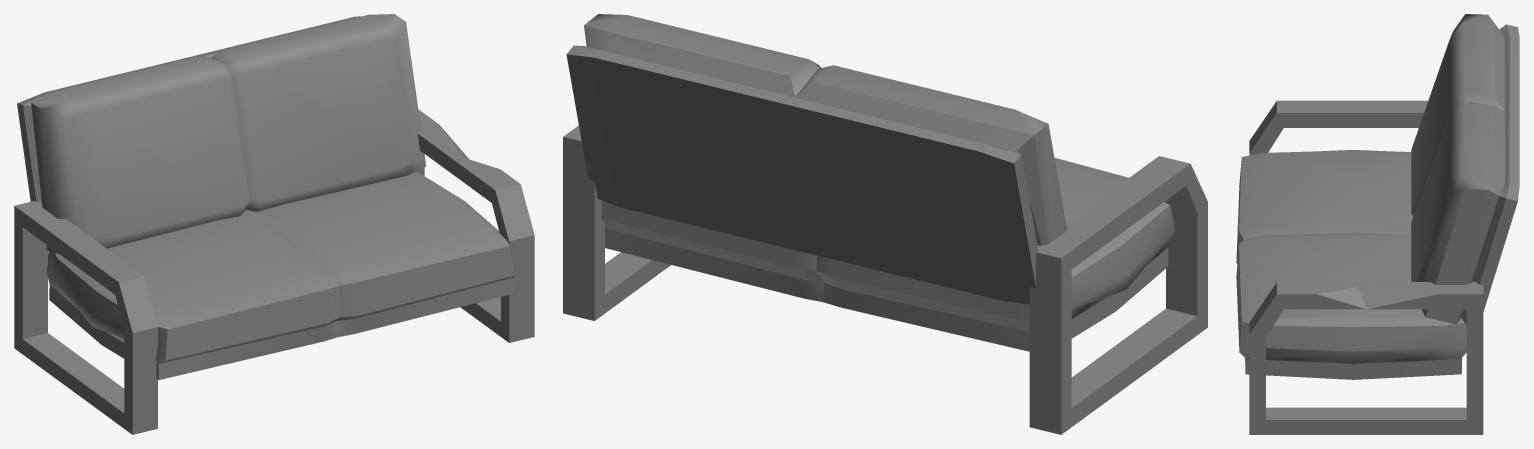
The model's file is SM_Prop_Couch_01.obj.
The picture shows the model from 3 angles, left to right: view 1: azimuth 30°, elevation 25°; view 2: azimuth 150°, elevation 25°; view 3: azimuth 270°, elevation 25°; orthographic projection. The views are drawn at different scales.
Parts seen in each view (by area): view 1: SM_Prop_Couch_01_Mat_PolygonCity_Texture_01_A-Dither; view 2: SM_Prop_Couch_01_Mat_PolygonCity_Texture_01_A-Dither; view 3: SM_Prop_Couch_01_Mat_PolygonCity_Texture_01_A-Dither.
Boxes of the visible parts, x1,y1,x2,y2 form: SM_Prop_Couch_01_Mat_PolygonCity_Texture_01_A-Dither: (14,14,534,434); SM_Prop_Couch_01_Mat_PolygonCity_Texture_01_A-Dither: (563,14,1207,434); SM_Prop_Couch_01_Mat_PolygonCity_Texture_01_A-Dither: (1236,14,1519,434).
Bounding box in the file's own units: 1.83 × 1.06 × 1.13.
Materials: 1 (1 with a texture image).
